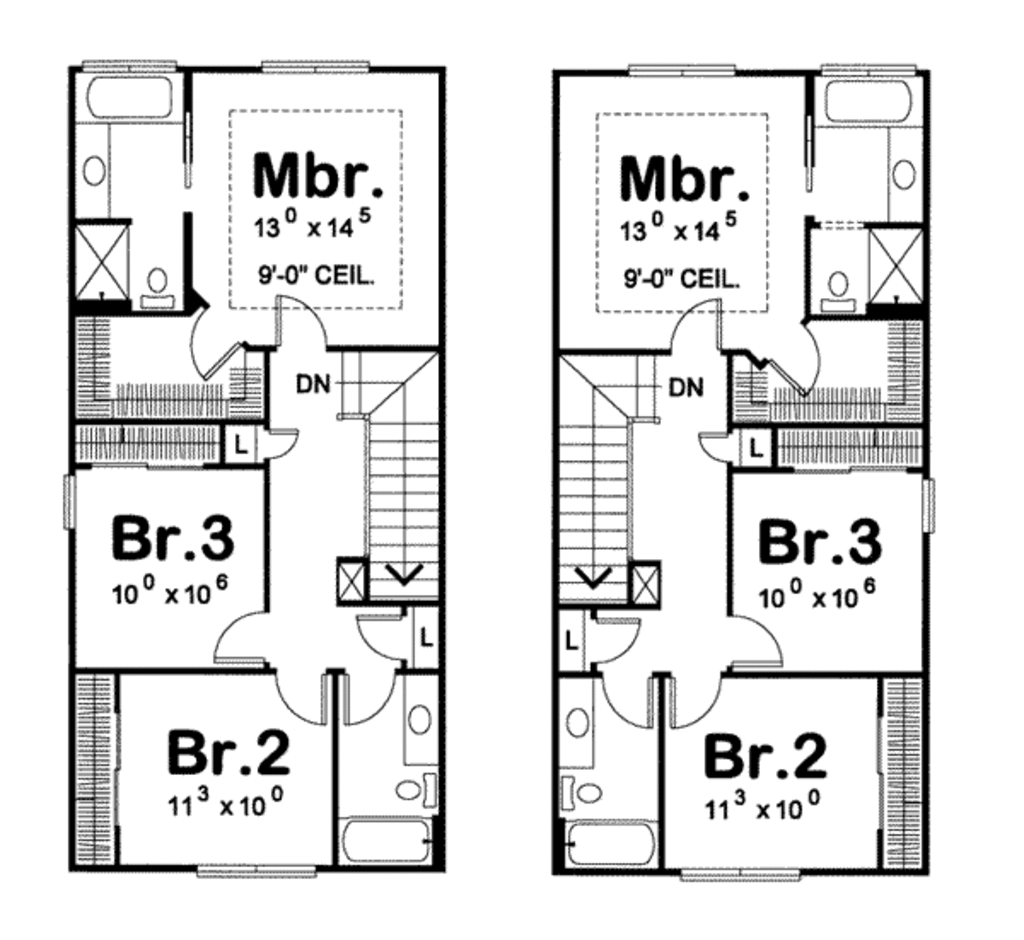door: (179, 299, 246, 381), (761, 315, 823, 403), (663, 670, 731, 738), (670, 287, 735, 357), (335, 665, 401, 732), (596, 668, 660, 731), (729, 609, 791, 668), (206, 609, 271, 665), (271, 665, 327, 727), (591, 612, 646, 667), (272, 291, 327, 345), (263, 423, 302, 461), (697, 428, 737, 462)
large_sink: (127, 258, 191, 318), (548, 765, 610, 814), (808, 266, 864, 317), (391, 762, 443, 810)
small_sink: (556, 675, 600, 769), (891, 122, 923, 227), (75, 132, 108, 232), (406, 668, 436, 767)
stairs: (549, 345, 669, 606), (326, 340, 442, 599)
tub: (65, 70, 187, 125), (815, 82, 927, 130), (334, 818, 436, 867), (560, 822, 667, 868)
window: (195, 858, 323, 883), (626, 61, 758, 80), (673, 870, 802, 888), (259, 57, 373, 76), (53, 473, 84, 541), (916, 470, 946, 538)
